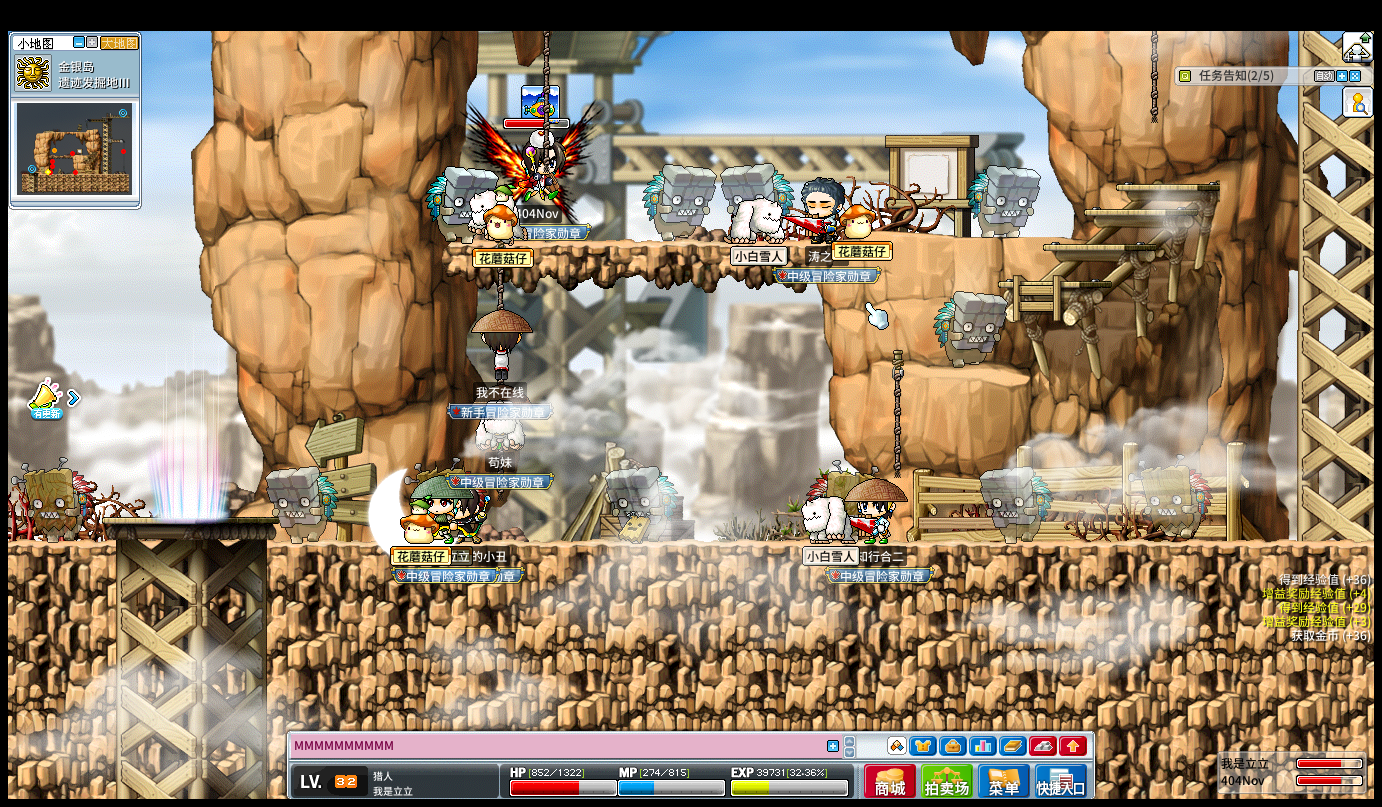floor: (267, 540, 1374, 552), (446, 239, 832, 249), (912, 365, 1031, 386), (893, 233, 1075, 241), (102, 517, 279, 525), (7, 538, 115, 551), (1083, 208, 1198, 216), (1042, 243, 1155, 251), (998, 280, 1110, 287), (1116, 184, 1220, 191)
monster: (1128, 453, 1212, 539), (11, 457, 94, 543), (979, 466, 1054, 544), (642, 165, 717, 241), (934, 291, 1008, 368), (605, 467, 678, 545), (266, 467, 339, 544), (967, 166, 1041, 238), (425, 167, 473, 243), (719, 164, 795, 201)
rope: (891, 349, 903, 476), (541, 29, 550, 173), (1150, 30, 1157, 123), (497, 268, 503, 310)
